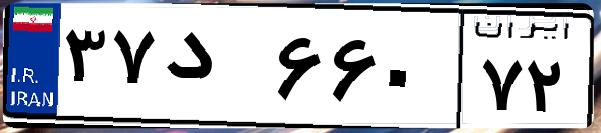0: (385, 28, 445, 110)
2: (525, 38, 570, 115)
3: (57, 26, 110, 100)
6: (270, 28, 330, 110), (330, 28, 385, 110)
7: (475, 38, 525, 113), (110, 28, 158, 98)
د: (158, 20, 270, 120)
